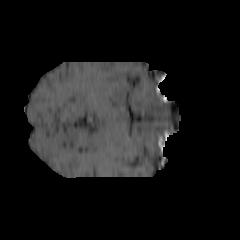glioma: (74, 73, 141, 129)
